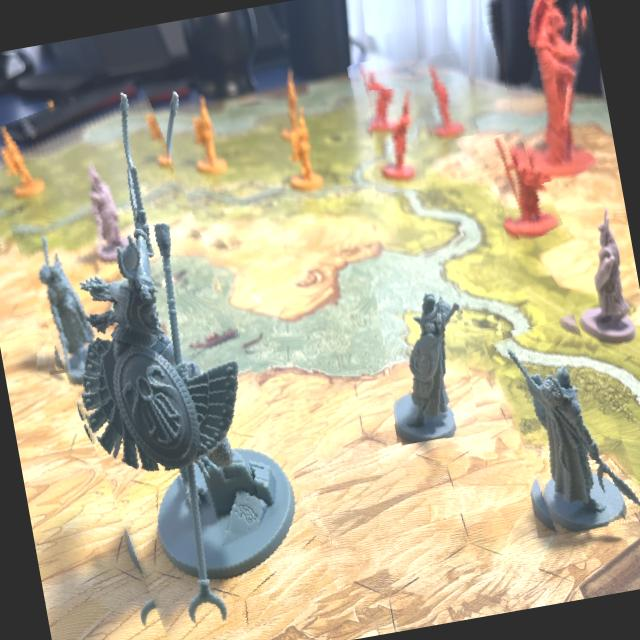amon: (483, 0, 618, 186)
amon_follower: (483, 125, 559, 244), (361, 84, 429, 195), (410, 49, 476, 144), (348, 58, 398, 144)
isis: (0, 65, 317, 640)
isis_follower: (491, 310, 640, 543), (15, 198, 127, 378), (372, 276, 482, 446)
